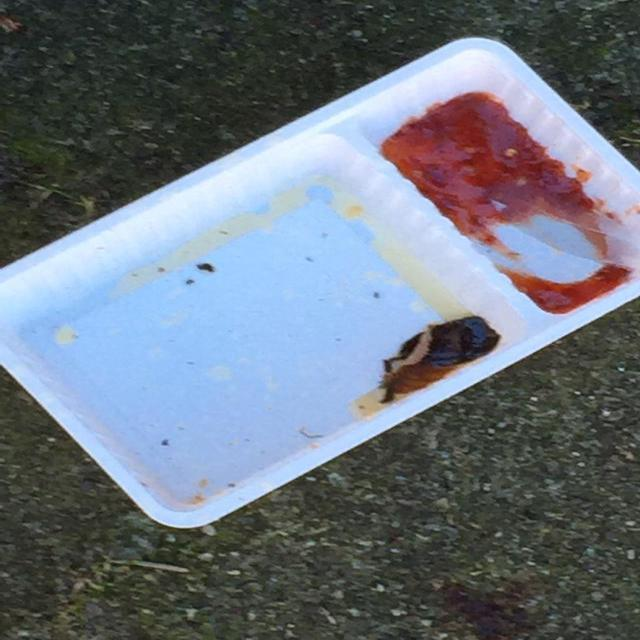Plastic: (0, 36, 640, 530)
